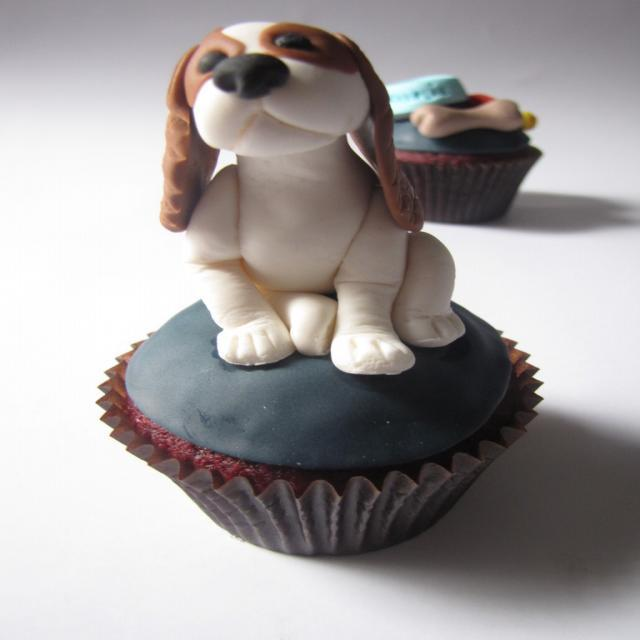Muffin: (89, 17, 550, 561), (378, 66, 547, 226)
